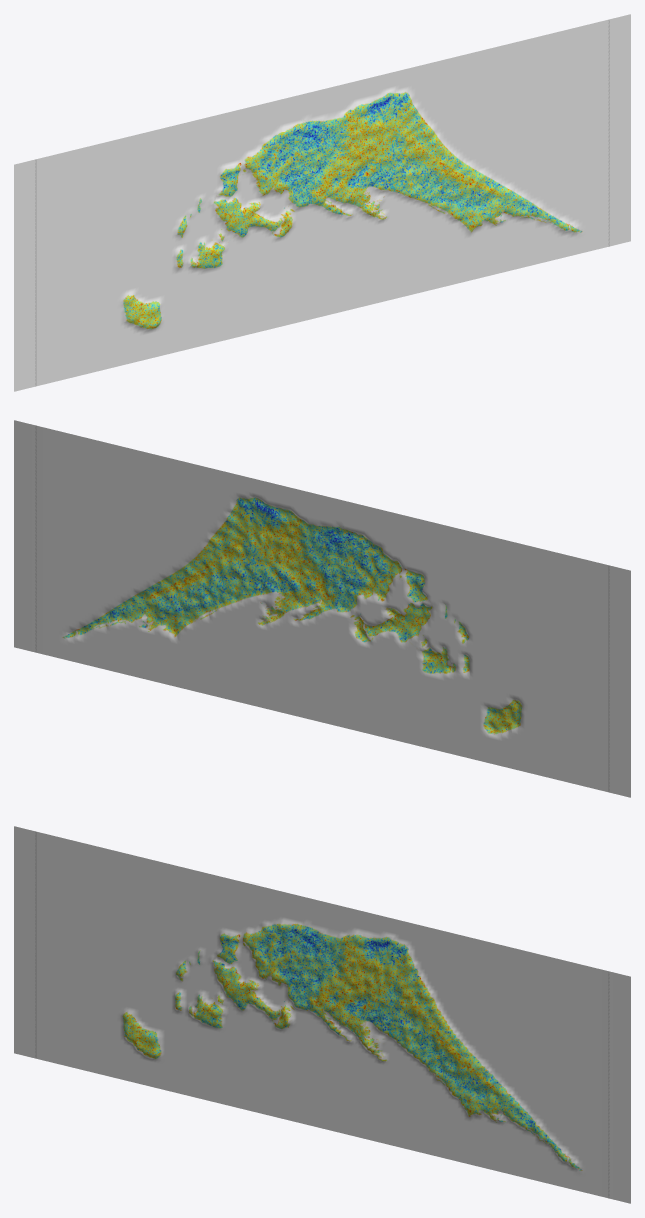
Rendered from peninsula.glb.
3 views of the same model, one above another, from view 1: azimuth 30°, elevation 25°; view 2: azimuth 150°, elevation 25°; view 3: azimuth 330°, elevation 25° (orthographic).
Visible parts, largest first — view 1: L2.003; view 2: L2.003; view 3: L2.003.
Part boxes in pixels (left/top/right/bottom): L2.003: left=14, top=14, right=630, bottom=391; L2.003: left=14, top=420, right=630, bottom=797; L2.003: left=14, top=826, right=630, bottom=1203.
Size of the model in its own units: 1.42 by 0.4981 by 0.0101.
Materials: 1 (1 with a texture image).
